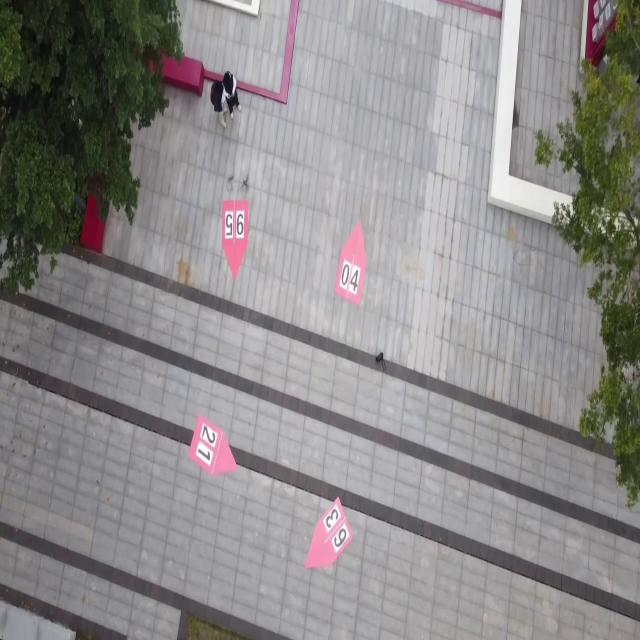-sign-: (305, 497, 354, 571), (188, 415, 238, 478), (335, 220, 367, 308), (221, 198, 248, 282)
